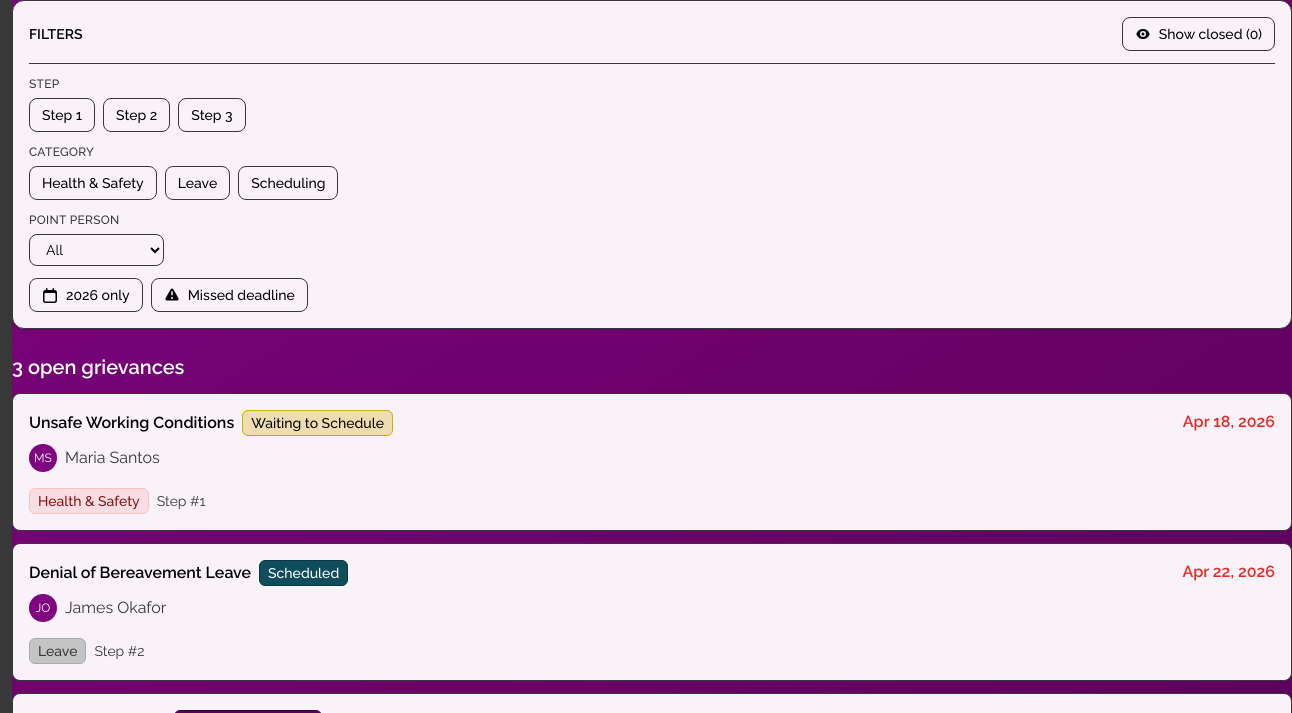
Test: GrievanceFilterView › step filter › filters to Step 3 grievances when Step 3 is selected
Click the button "Step 3".
click(212, 115)  # box [178,98,246,132]
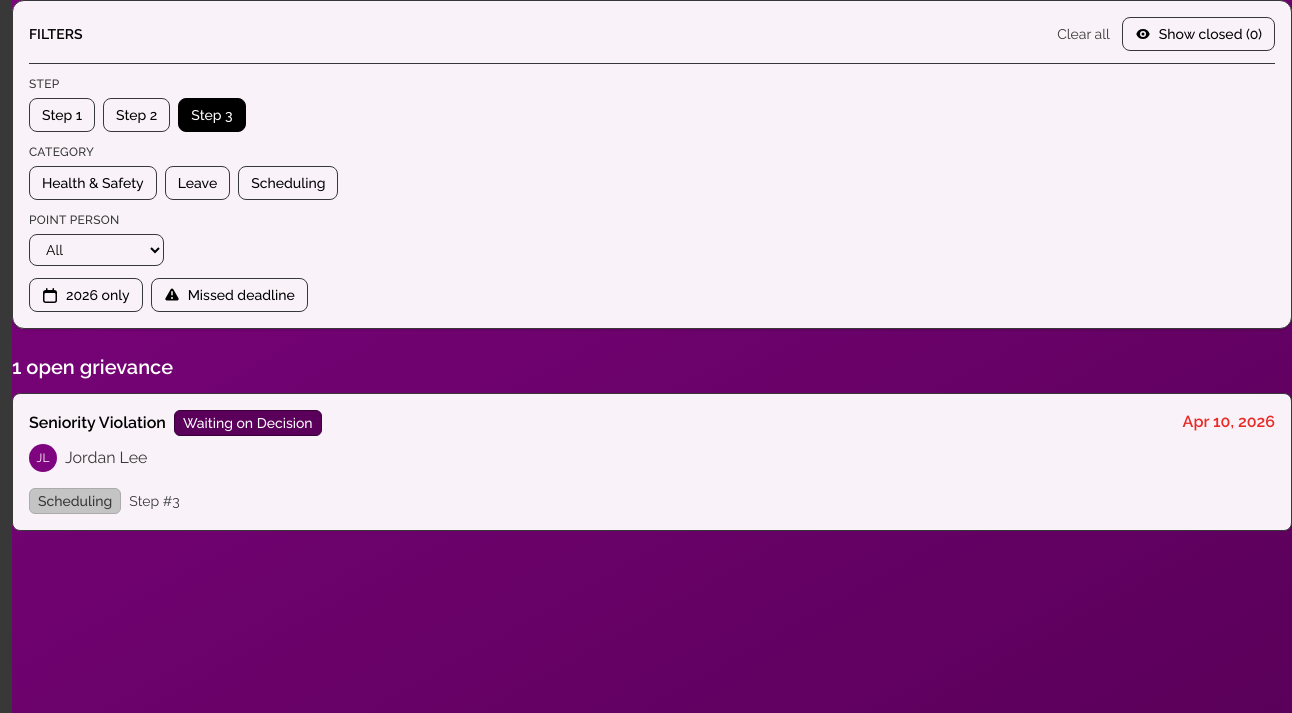
Expected: the heading "Seniority Violation" is shown, [29,411,166,435]
Now the link "Unsafe Working Conditions" is gone
Now the link "Denial of Bereavement Leave" is gone
